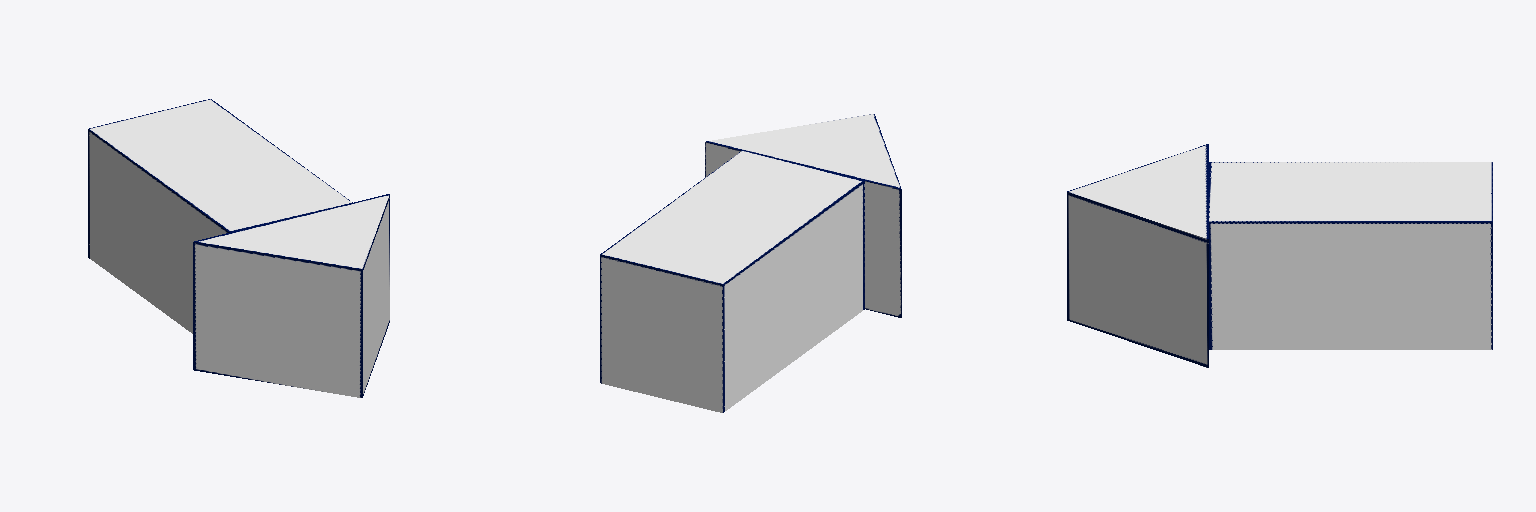
3 renders of one model, left to right at view 1: azimuth 30°, elevation 25°; view 2: azimuth 150°, elevation 25°; view 3: azimuth 270°, elevation 25°, orthographic.
Visible parts, largest first — view 1: 立方体.001; view 2: 立方体.001; view 3: 立方体.001.
Boxes of the visible parts, box(x1,y1,x2,y2) form: 立方体.001: box(88, 99, 389, 397); 立方体.001: box(600, 114, 901, 412); 立方体.001: box(1067, 144, 1492, 367).
Bounding box in the file's own units: 1.6 × 1 × 3.
1 materials, 1 textured.